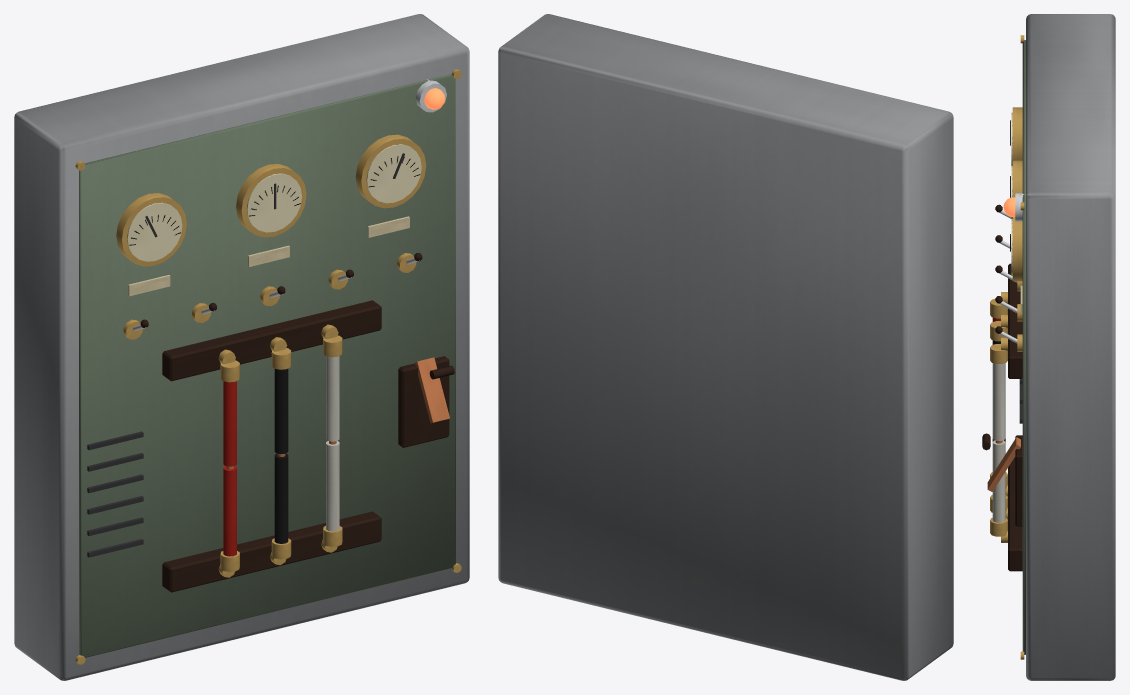
Rendered from OB_Lacznica.fbx.
3 renders of one model, left to right at view 1: azimuth 30°, elevation 25°; view 2: azimuth 150°, elevation 25°; view 3: azimuth 270°, elevation 25°, orthographic. The views are drawn at different scales.
Visible parts, largest first — view 1: Korpus, Kabel_2_Dol, Kabel_2_Gora, Kabel_1_Dol, Kabel_3_Dol, Kabel_1_Gora, Kabel_3_Gora; view 2: Korpus; view 3: Korpus, Kabel_3_Gora, Kabel_3_Dol, Kabel_1_Gora, Kabel_2_Gora.
Part boxes in pixels (x1,y1,x2,y2): Korpus: (14, 14, 469, 680); Kabel_2_Dol: (271, 453, 291, 559); Kabel_2_Gora: (271, 348, 291, 456); Kabel_1_Dol: (220, 466, 239, 571); Kabel_3_Dol: (323, 441, 342, 546); Kabel_1_Gora: (220, 360, 239, 469); Kabel_3_Gora: (323, 335, 342, 444); Korpus: (498, 14, 953, 680); Korpus: (982, 14, 1115, 680); Kabel_3_Gora: (990, 344, 1007, 440); Kabel_3_Dol: (990, 440, 1007, 536); Kabel_1_Gora: (990, 299, 1007, 321); Kabel_2_Gora: (990, 321, 1007, 344).
Size of the model in its own units: 1.2 by 1.5 by 0.372.
